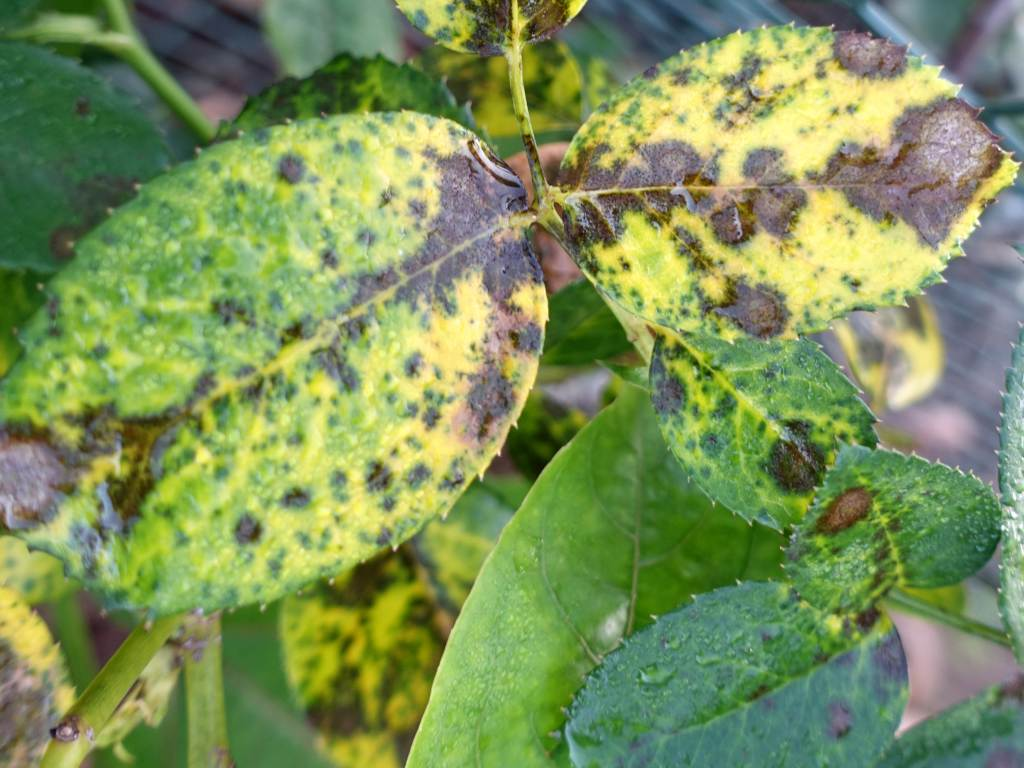unhealthy: (32, 106, 518, 566), (554, 53, 1007, 333)
